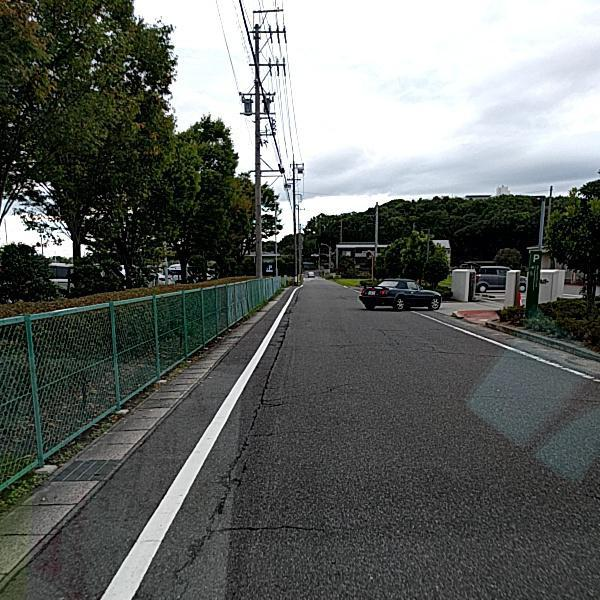D10: (466, 385, 596, 409), (211, 520, 338, 544), (249, 379, 358, 405), (416, 345, 524, 365), (242, 426, 315, 438)
